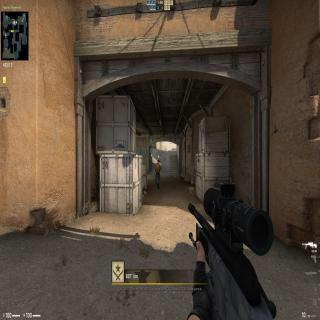T-Head: (157, 159, 160, 164)
